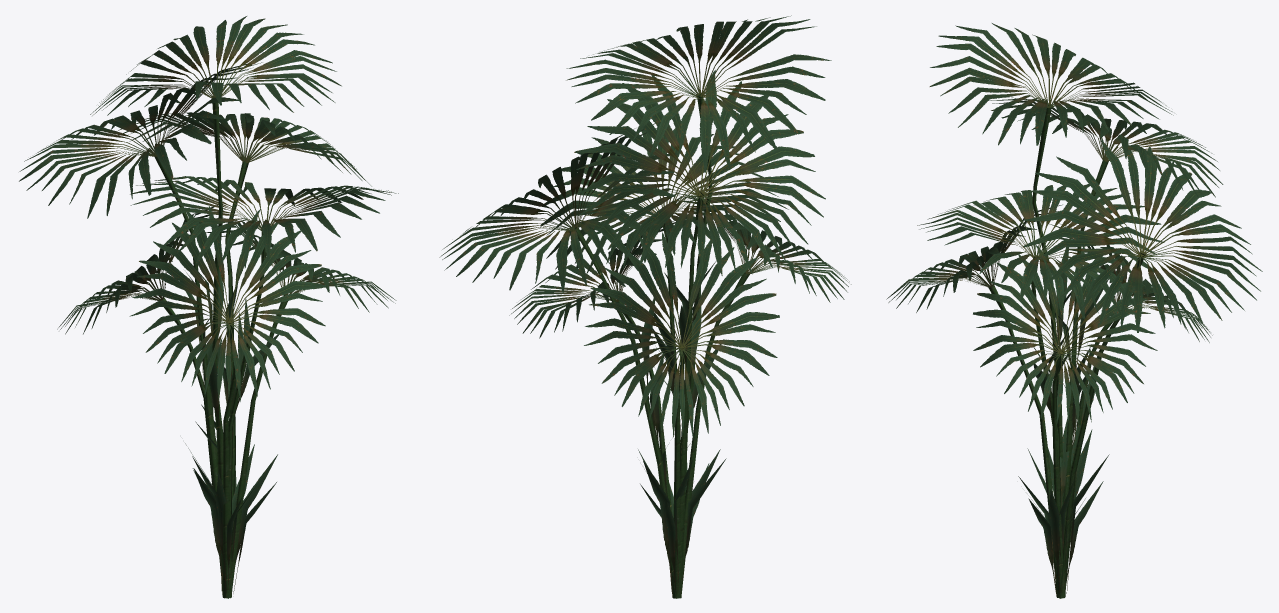
Rendered from Plant1_2_L3.fbx.
3 renders of one model, left to right at view 1: azimuth 30°, elevation 25°; view 2: azimuth 150°, elevation 25°; view 3: azimuth 270°, elevation 25°, orthographic. The views are drawn at different scales.
Parts seen in each view (by area): view 1: polySurface24; view 2: polySurface24; view 3: polySurface24.
Part boxes in pixels (x1=…): polySurface24: x1=19, y1=16, x2=398, y2=598; polySurface24: x1=439, y1=15, x2=851, y2=598; polySurface24: x1=886, y1=23, x2=1262, y2=598.
Bounding box in the file's own units: 379 × 620 × 400.
